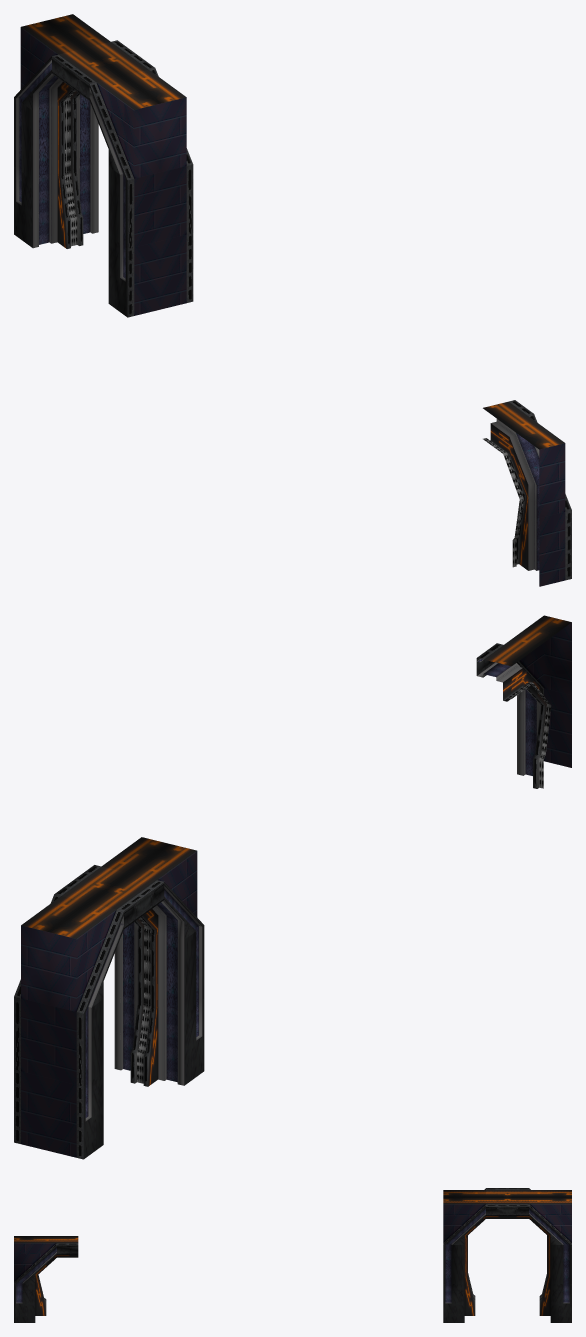
File: prison_gate.glb
3 views of the same model, one above another, from view 1: azimuth 30°, elevation 25°; view 2: azimuth 150°, elevation 25°; view 3: azimuth 270°, elevation 25° (orthographic). The views are drawn at different scales.
Parts seen in each view (by area): view 1: GateOriginal, Gate01, Gate00, Gate02, Gate05, Gate06, Gate04, Gate03; view 2: GateOriginal, Gate04, Gate02, Gate00, Gate06, Gate05, Gate01, Gate03; view 3: GateOriginal, Gate01, Gate04, Gate03, Gate02, Gate00, Gate06, Gate05.
Part boxes in pixels (x1,y1,x2,y2): GateOriginal: (483,400,571,586); Gate01: (89,68,192,180); Gate00: (14,163,98,248); Gate02: (108,233,193,317); Gate05: (108,164,193,248); Gate06: (14,97,98,179); Gate04: (14,14,110,110); Gate03: (52,40,154,100); GateOriginal: (476,615,571,788); Gate04: (14,894,123,1013); Gate02: (114,996,204,1086); Gate00: (14,1069,103,1159); Gate06: (14,996,103,1086); Gate05: (114,925,204,1012); Gate01: (101,837,204,939); Gate03: (54,865,164,928); GateOriginal: (14,1236,78,1322); Gate01: (443,1188,485,1244); Gate04: (529,1188,571,1244); Gate03: (486,1188,528,1218); Gate02: (443,1273,475,1322); Gate00: (539,1274,571,1322); Gate06: (547,1235,571,1283); Gate05: (443,1235,467,1283).
Bounding box in the file's own units: 2 × 6 × 26.
1 material, 1 textured.
